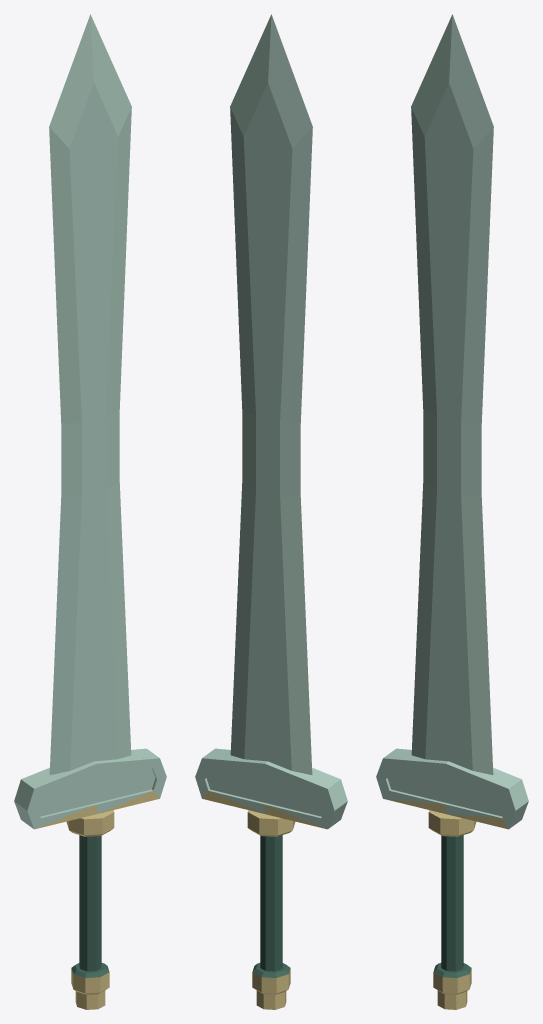
The picture shows the model from 3 angles, left to right: view 1: azimuth 30°, elevation 25°; view 2: azimuth 150°, elevation 25°; view 3: azimuth 330°, elevation 25°; orthographic projection.
Bounding box in the file's own units: 0.1475 × 1 × 0.0451.
